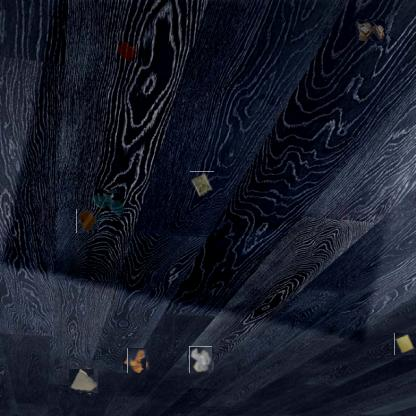dirty: (70, 367, 97, 394), (355, 20, 385, 42), (190, 171, 214, 198), (188, 347, 213, 372), (125, 349, 148, 372), (76, 210, 98, 233), (394, 333, 415, 355)
liquid: (94, 191, 122, 219), (116, 41, 138, 63)
